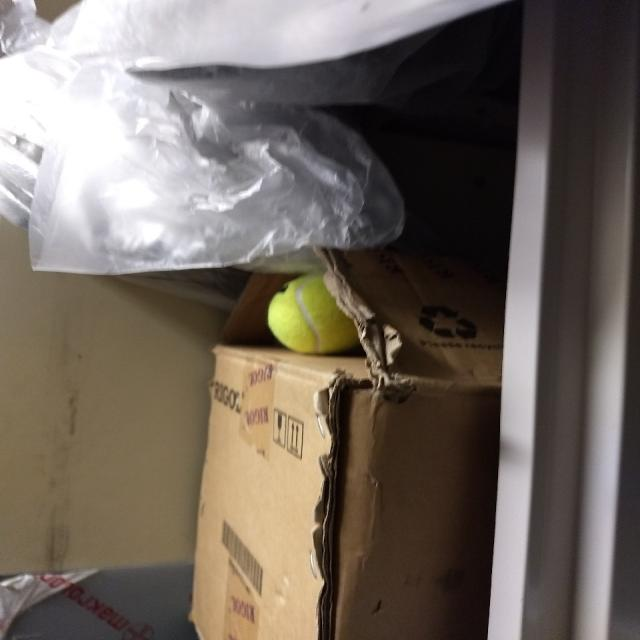Tennis-Ball: (272, 278, 352, 352)
